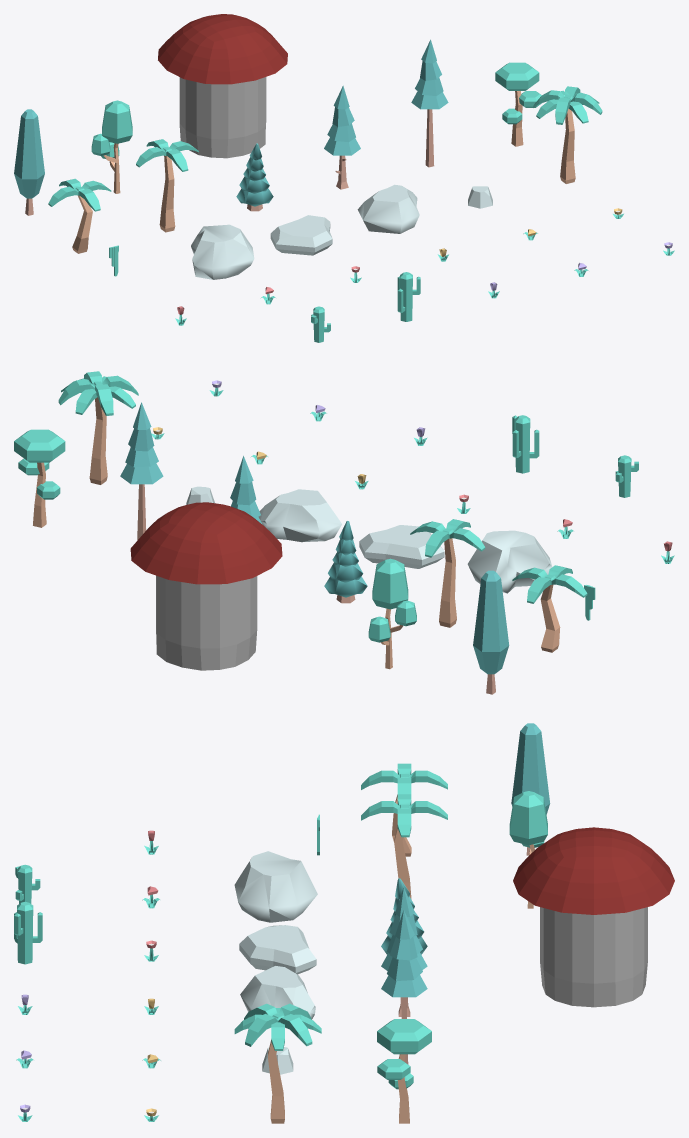
Rendered from tiles.glb.
The picture shows the model from 3 angles, top to bottom: view 1: azimuth 30°, elevation 25°; view 2: azimuth 150°, elevation 25°; view 3: azimuth 270°, elevation 25°; orthographic projection. The views are drawn at different scales.
Visible parts, largest first — view 1: House, stone_largeD, tree_palmDetailedTall, stone_largeF, tree_tall_dark, tree_plateau, stone_largeE, tree_thin, tree_pineTallD, tree_palmTall, tree_pineTallC_detailed, tree_palmShort (+2 smaller); view 2: House, stone_largeF, stone_largeD, tree_palmDetailedTall, tree_tall_dark, tree_thin, tree_plateau, stone_largeE, tree_palmTall, tree_pineTallD, tree_palmShort, tree_pineRoundD (+3 smaller); view 3: House, stone_largeD, tree_palmDetailedTall, tree_plateau, stone_largeE, tree_pineTallD, stone_largeF, tree_tall_dark, tree_palmTall, tree_thin, tree_palmShort, cactus_tall (+3 smaller).
Boxes of the visible parts, x1=… form: House: x1=158, y1=14, x2=287, y2=158; stone_largeD: x1=191, y1=224, x2=254, y2=279; tree_palmDetailedTall: x1=533, y1=86, x2=602, y2=183; stone_largeF: x1=357, y1=184, x2=419, y2=233; tree_tall_dark: x1=14, y1=109, x2=44, y2=215; tree_plateau: x1=495, y1=62, x2=541, y2=146; stone_largeE: x1=270, y1=215, x2=332, y2=255; tree_thin: x1=91, y1=100, x2=132, y2=193; tree_pineTallD: x1=411, y1=39, x2=448, y2=167; tree_palmTall: x1=136, y1=139, x2=198, y2=232; tree_pineTallC_detailed: x1=324, y1=85, x2=360, y2=189; tree_palmShort: x1=48, y1=178, x2=111, y2=253; House: x1=130, y1=502, x2=282, y2=670; stone_largeF: x1=258, y1=489, x2=341, y2=542; stone_largeD: x1=467, y1=530, x2=552, y2=593; tree_palmDetailedTall: x1=58, y1=371, x2=138, y2=484; tree_tall_dark: x1=473, y1=570, x2=509, y2=694; tree_thin: x1=368, y1=558, x2=416, y2=669; tree_plateau: x1=14, y1=429, x2=65, y2=527; stone_largeE: x1=359, y1=525, x2=444, y2=568; tree_palmTall: x1=410, y1=519, x2=485, y2=627; tree_pineTallD: x1=120, y1=402, x2=163, y2=540; tree_palmShort: x1=512, y1=565, x2=587, y2=652; tree_pineRoundD: x1=324, y1=521, x2=367, y2=603; House: x1=513, y1=827, x2=674, y2=1007; stone_largeD: x1=234, y1=851, x2=317, y2=922; tree_palmDetailedTall: x1=234, y1=1003, x2=321, y2=1123; tree_plateau: x1=377, y1=1019, x2=431, y2=1123; stone_largeE: x1=239, y1=925, x2=316, y2=974; tree_pineTallD: x1=381, y1=910, x2=427, y2=1064; stone_largeF: x1=240, y1=966, x2=315, y2=1019; tree_tall_dark: x1=511, y1=723, x2=550, y2=855; tree_palmTall: x1=361, y1=794, x2=447, y2=898; tree_thin: x1=509, y1=791, x2=547, y2=908; tree_palmShort: x1=361, y1=763, x2=447, y2=856; cactus_tall: x1=14, y1=901, x2=42, y2=964.
Size of the model in its own units: 8.53 by 2.08 by 7.84.
